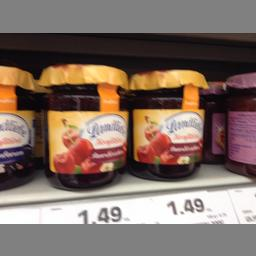jam: (39, 63, 129, 190), (129, 68, 207, 180), (0, 64, 33, 191), (220, 72, 254, 176)
